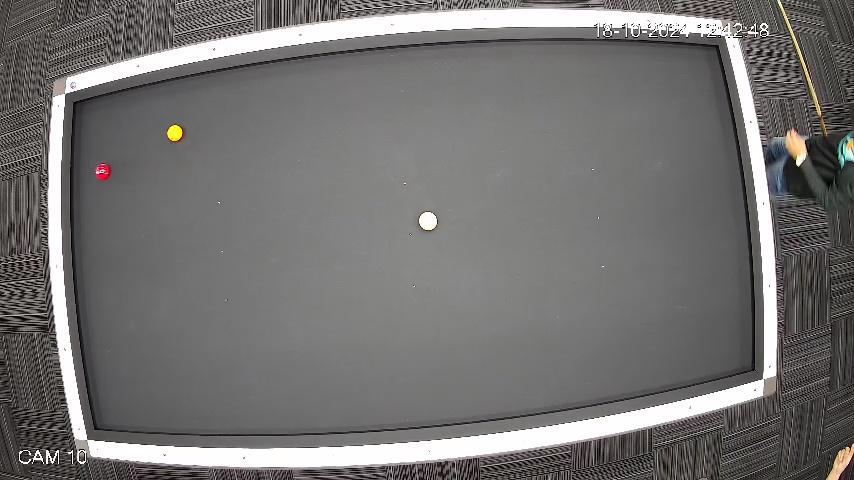Red: (94, 162, 112, 182)
White: (418, 210, 437, 231)
Yellow: (166, 124, 184, 142)
